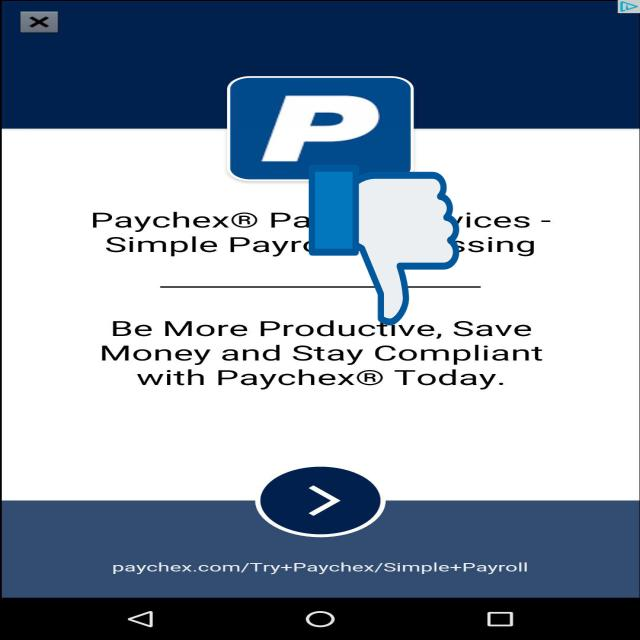obstruction: (309, 161, 459, 329)
